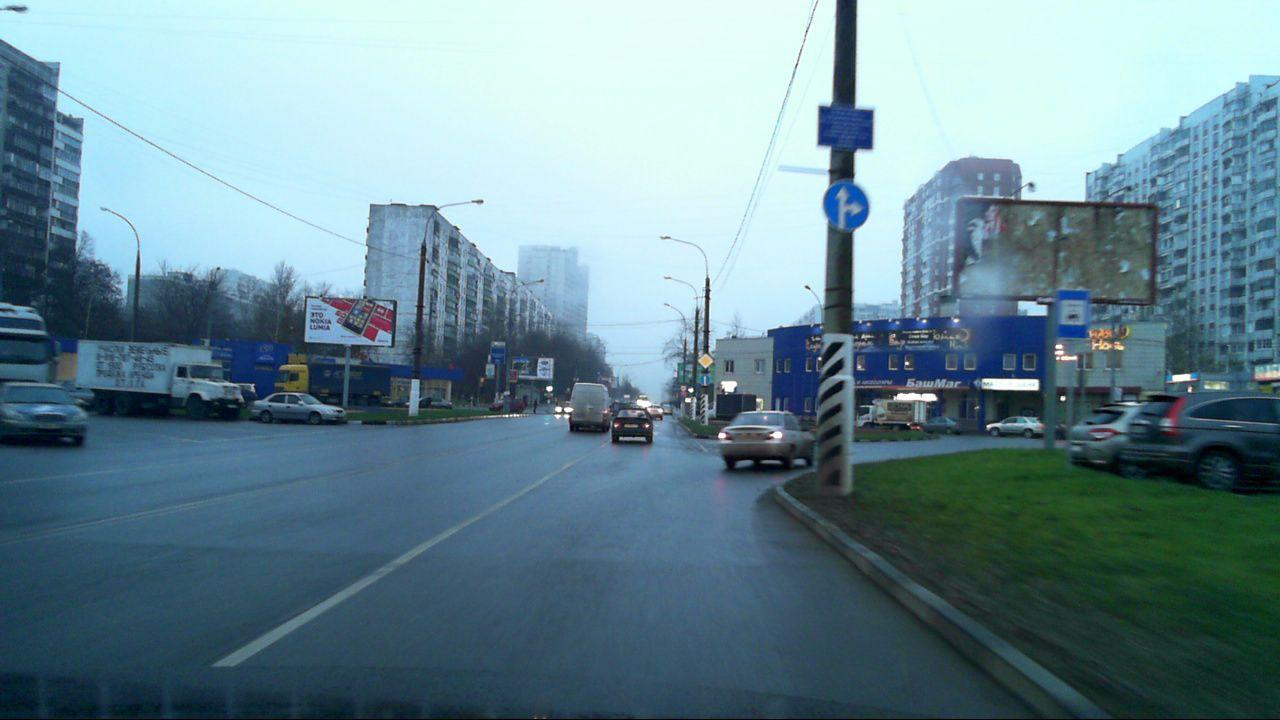2_1: (696, 353, 714, 369)
4_1_1: (698, 373, 713, 387)
4_1_4: (817, 180, 870, 234)
5_18: (1055, 289, 1089, 341)
